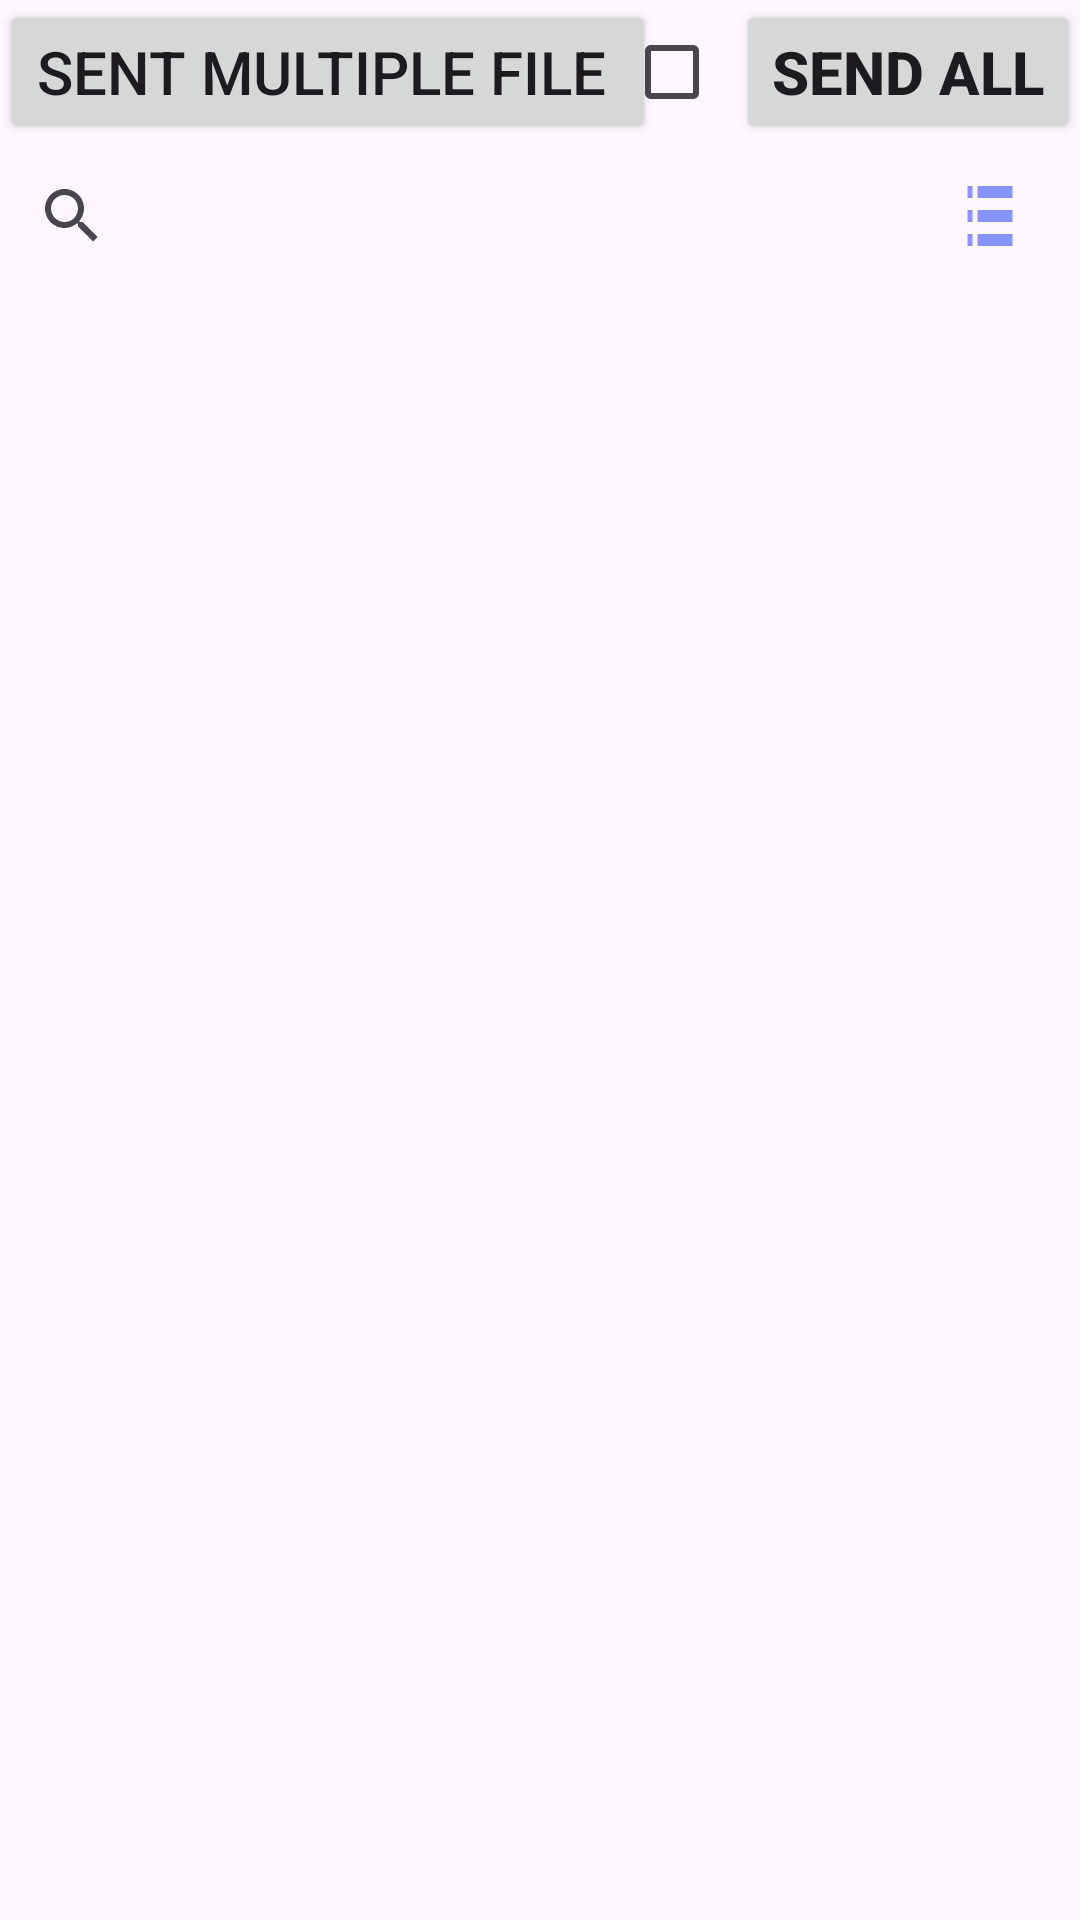

Icon click points for this 1080x1920 phone screenshot, format (x=x, y=y):
list: (x=990, y=216)
